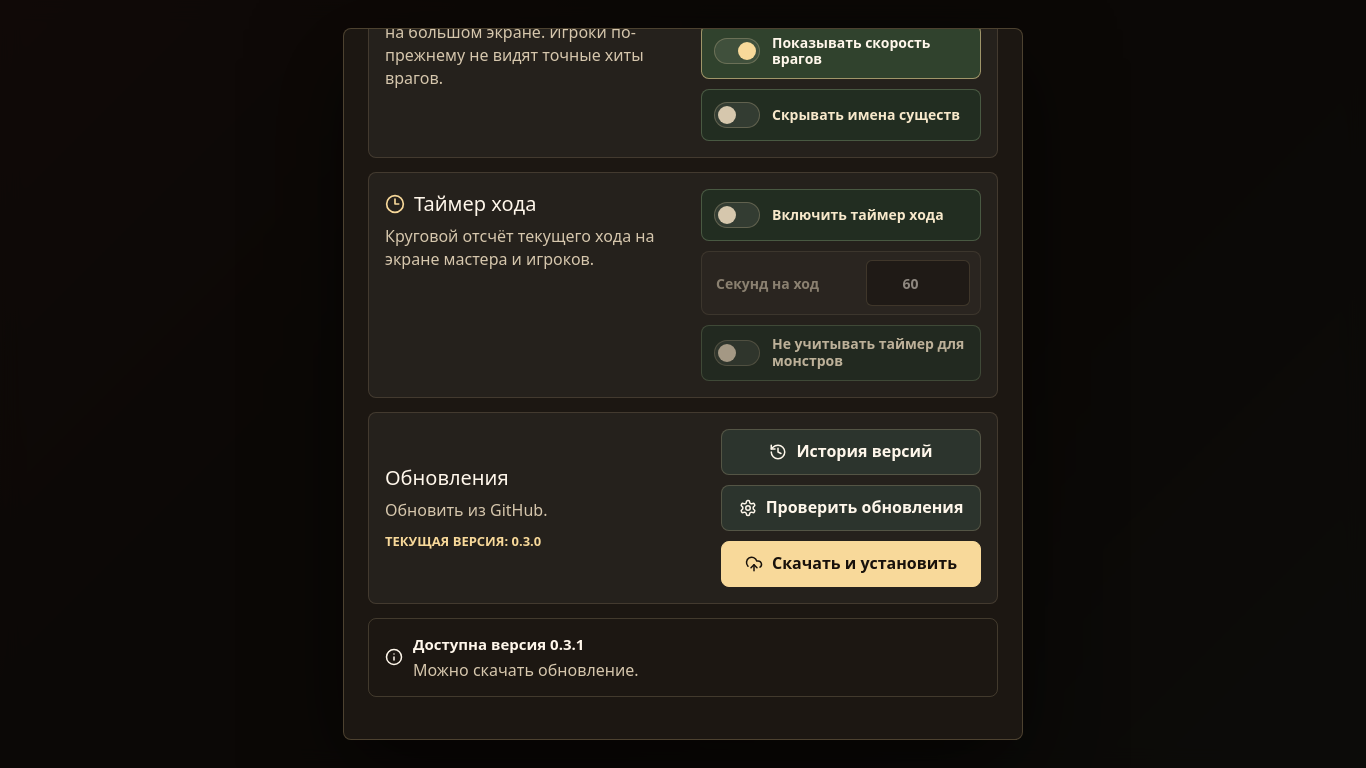
Test: SettingsModal turn timer settings › downloads an available update and starts the installer with one action
(page scrolled)
Step 1. Click the button "Скачать и установить" → (851, 564), box [721,541,981,587]
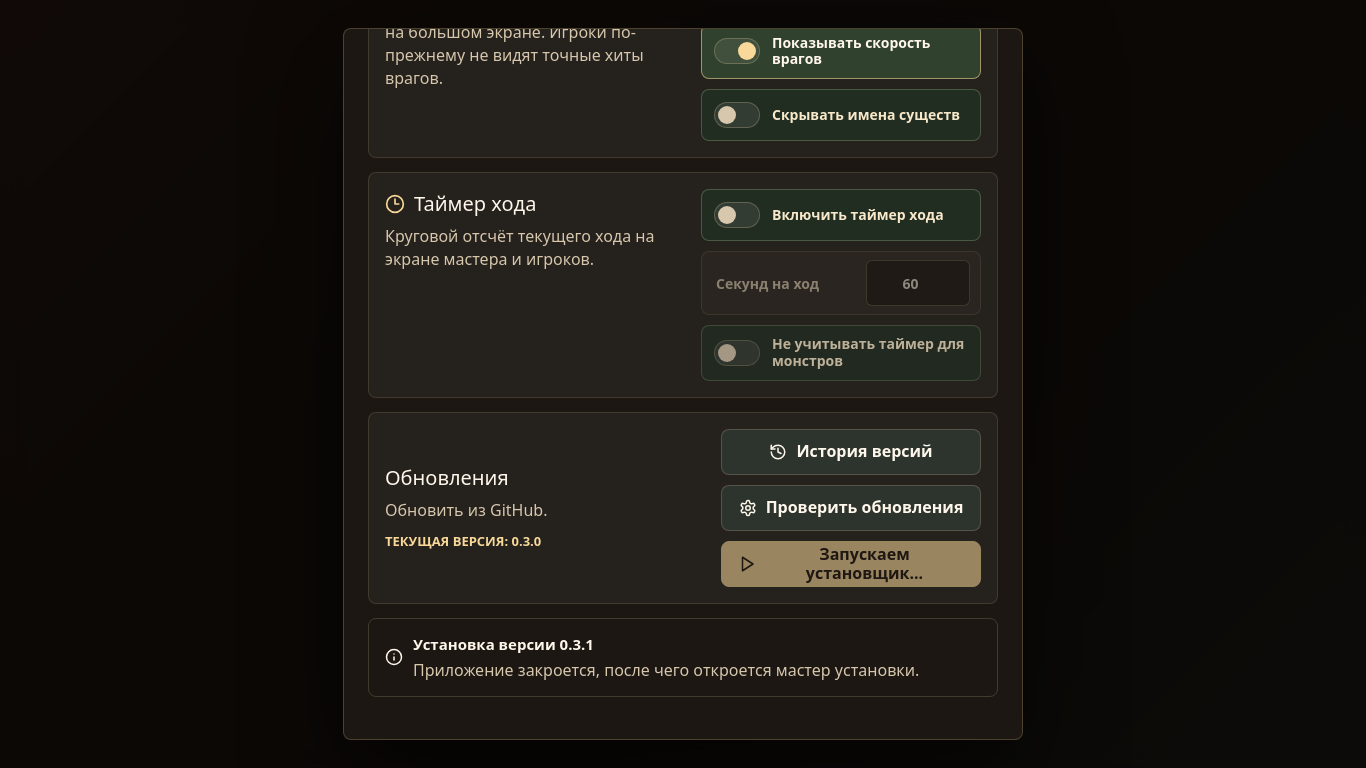
Result: the button "Запускаем установщик..." is disabled at [721,541,981,587]
